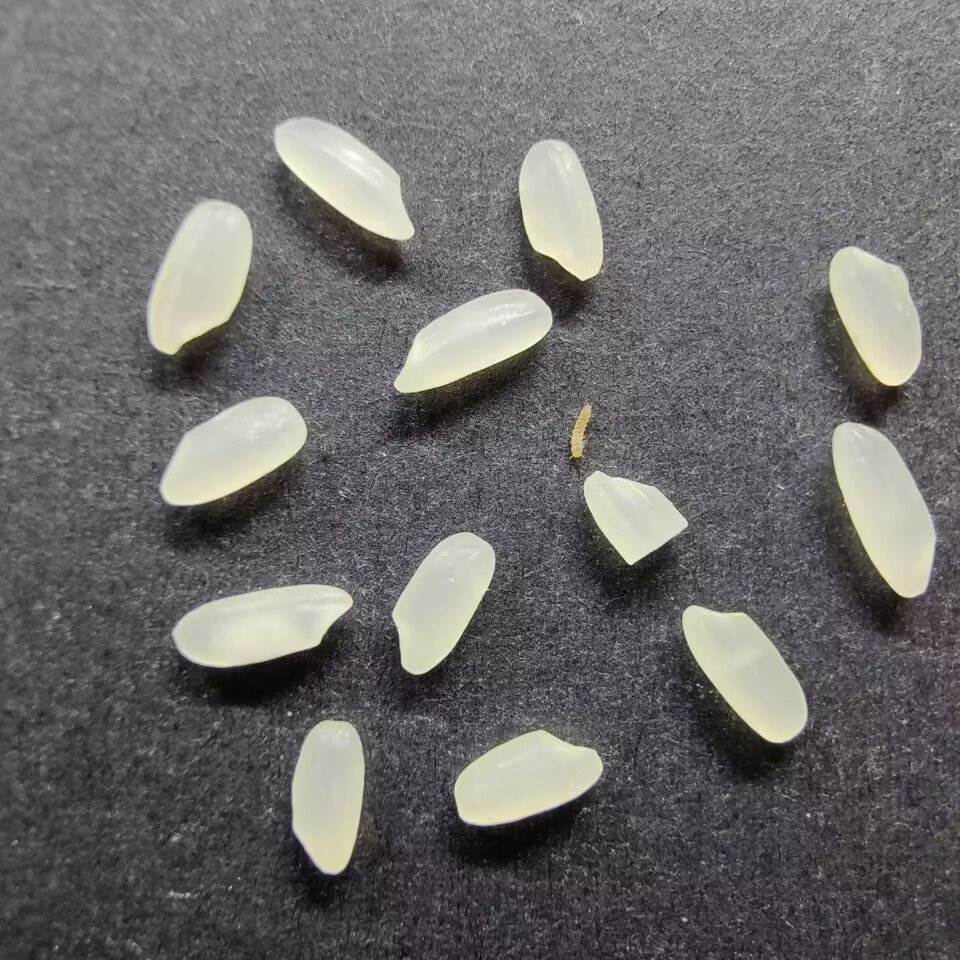broken: (581, 469, 691, 568)
others: (563, 398, 595, 463)
rice: (829, 420, 937, 600), (271, 116, 417, 243), (679, 603, 808, 744), (392, 289, 553, 395), (156, 394, 308, 505), (144, 201, 252, 354), (170, 583, 353, 669), (390, 531, 496, 676), (451, 729, 602, 826), (828, 242, 922, 387), (288, 718, 366, 876), (518, 139, 604, 282)
